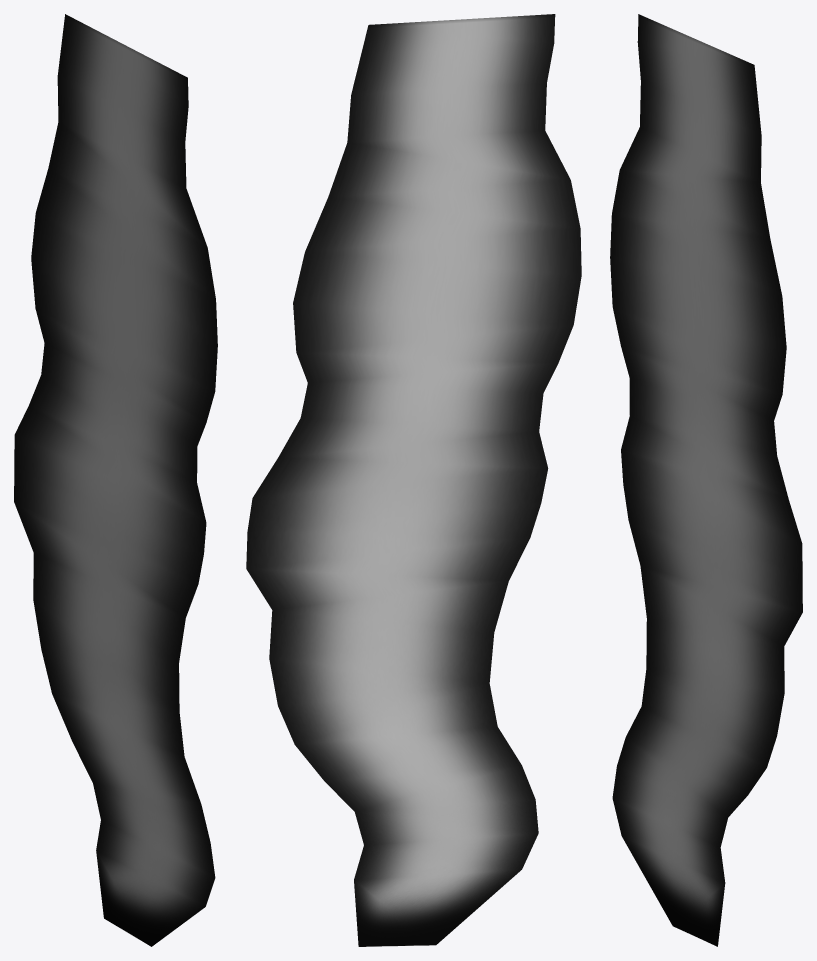
Rendered from texiao01.FBX.
3 renders of one model, left to right at view 1: azimuth 90°, elevation 25°; view 2: azimuth 150°, elevation 25°; view 3: azimuth 270°, elevation 25°, orthographic. The views are drawn at different scales.
Visible parts, largest first — view 1: texiao01; view 2: texiao01; view 3: texiao01.
Part boxes in pixels (x1=…): texiao01: x1=14, y1=14, x2=217, y2=946; texiao01: x1=246, y1=14, x2=581, y2=946; texiao01: x1=610, y1=14, x2=802, y2=946.
Bounding box in the file's own units: 12.15 × 47.68 × 9.56.
